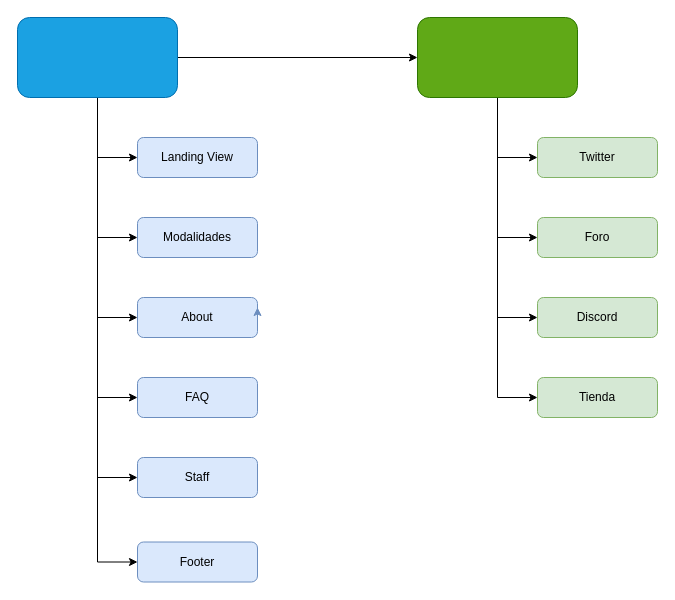
This 675x600 diagram has some shape labels left out. The shapes that lost their labels are listed below. From the top down, each one's centre as x and y in pixels, then its label:
At pixel 97 57: "Landing Page".
At pixel 497 57: "External".
